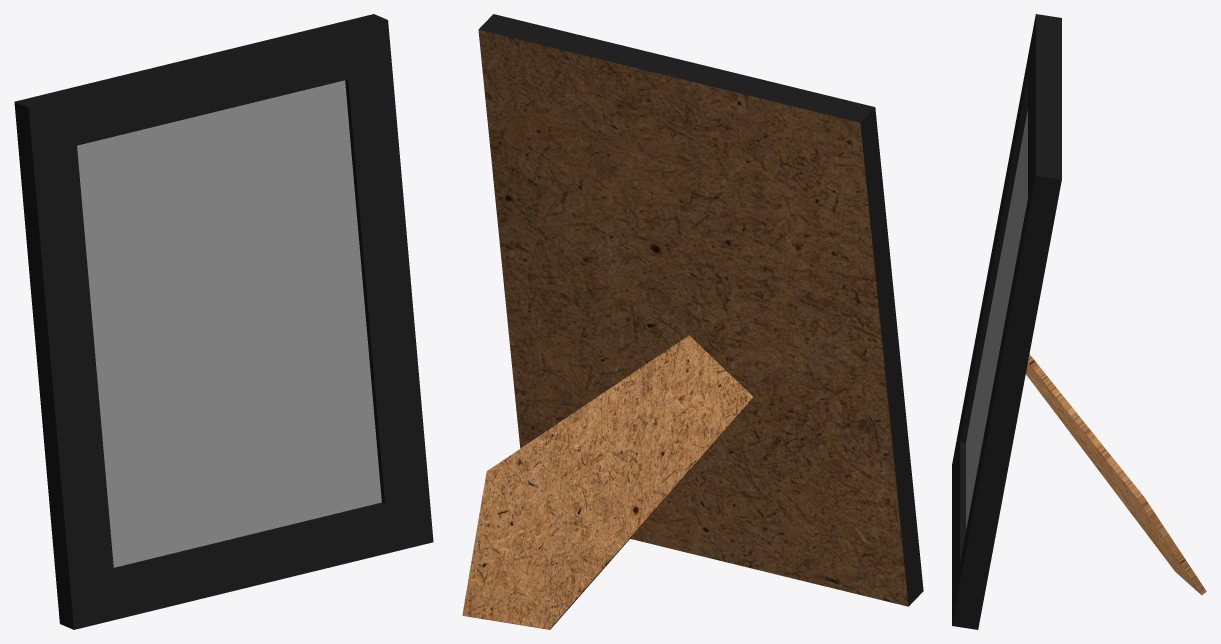
File: Photo 1.FBX
3 views of the same model, side by side, from view 1: azimuth 30°, elevation 25°; view 2: azimuth 150°, elevation 25°; view 3: azimuth 270°, elevation 25° (orthographic). The views are drawn at different scales.
Visible parts, largest first — view 1: Photo 1; view 2: Photo 1; view 3: Photo 1.
Boxes of the visible parts, x1=… form: Photo 1: x1=14, y1=14, x2=433, y2=629; Photo 1: x1=462, y1=14, x2=923, y2=629; Photo 1: x1=952, y1=14, x2=1206, y2=629.
Bounding box in the file's own units: 21.35 × 27.99 × 14.22.
2 materials, 1 textured.
